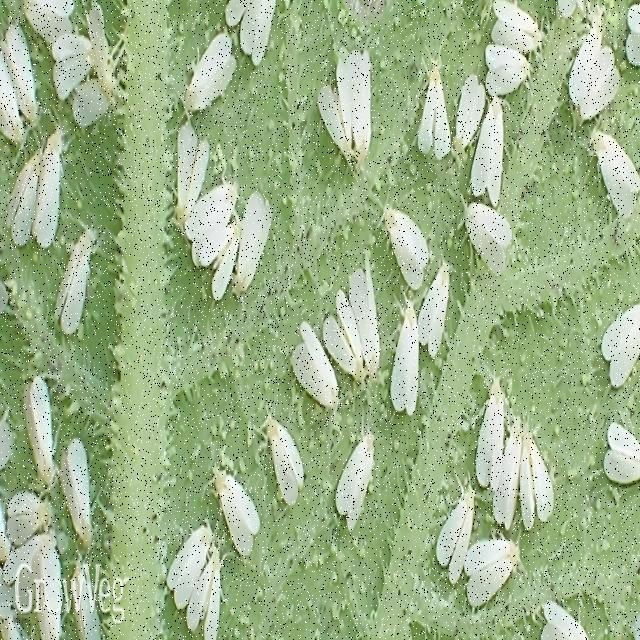Whiteflies: (1, 1, 87, 278), (11, 1, 137, 152), (1, 380, 73, 626), (477, 356, 565, 526), (427, 472, 524, 626), (261, 295, 341, 429), (200, 443, 283, 571), (50, 211, 121, 356), (157, 508, 234, 631), (457, 186, 524, 317), (376, 161, 443, 290), (177, 18, 241, 151), (315, 67, 386, 185), (229, 172, 286, 317), (183, 167, 248, 290), (257, 375, 312, 519), (321, 264, 378, 393), (166, 112, 221, 243), (330, 399, 387, 525), (466, 67, 517, 206), (345, 258, 400, 374), (419, 37, 463, 181), (452, 40, 499, 173), (419, 215, 456, 363), (388, 269, 421, 425), (59, 553, 110, 640), (64, 432, 108, 531), (601, 411, 640, 510)
